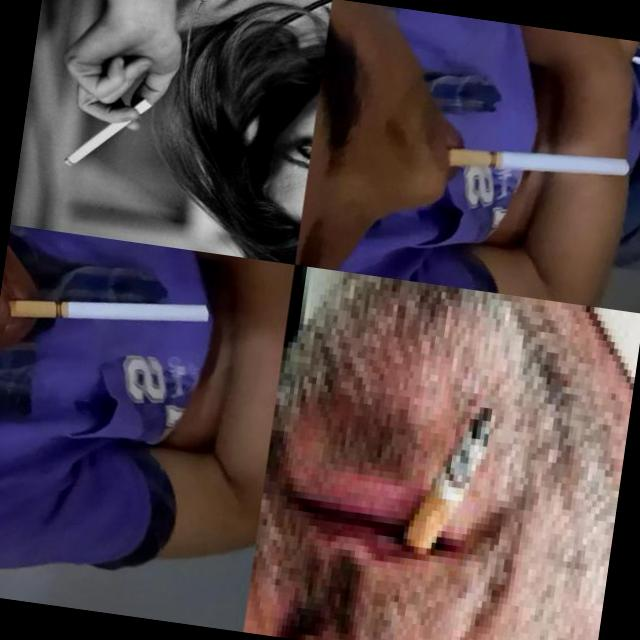smoke: (392, 396, 498, 582), (10, 278, 213, 343), (446, 134, 634, 190), (65, 89, 152, 176)
